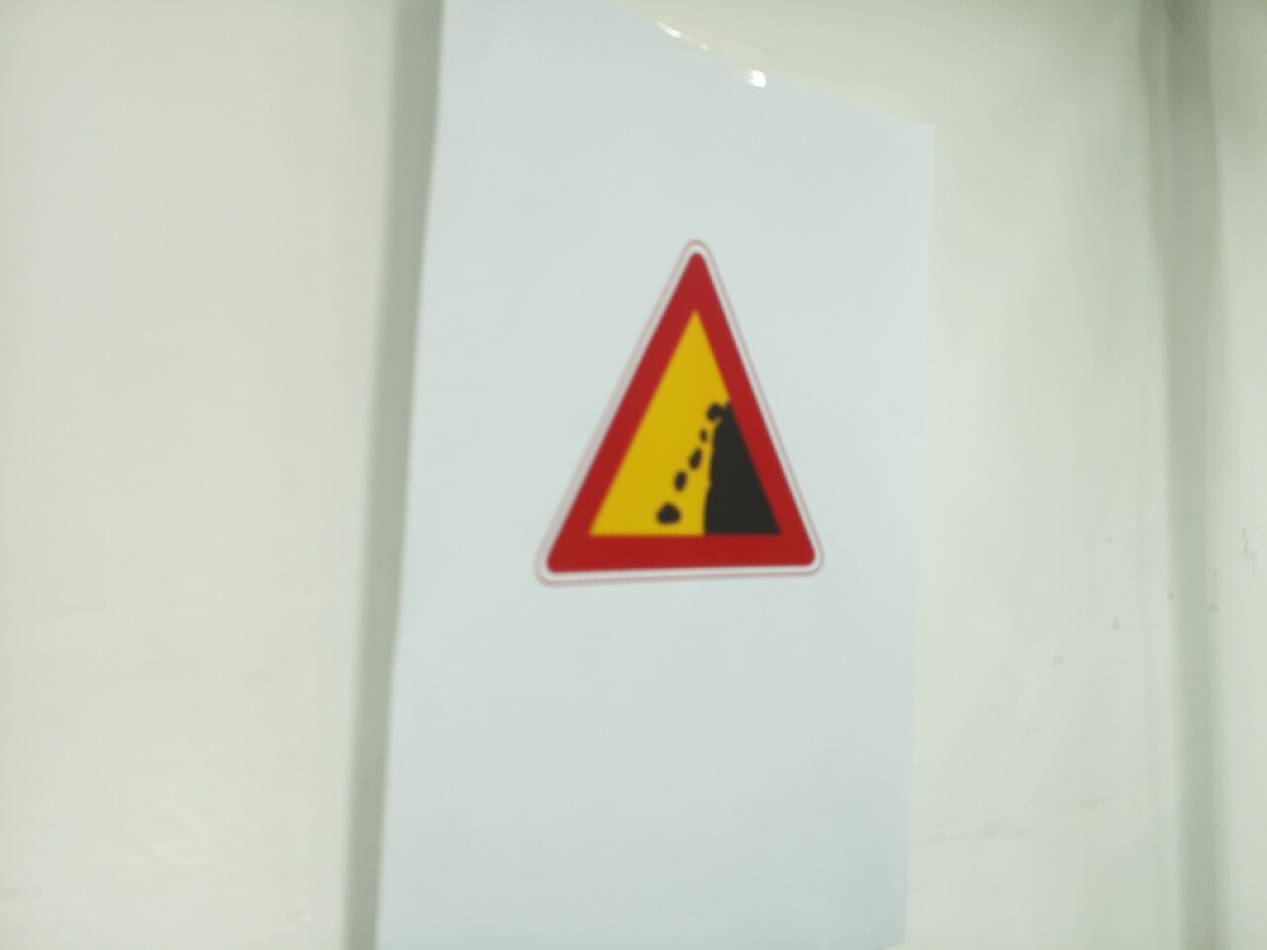falling_rocks: (537, 243, 825, 583)
